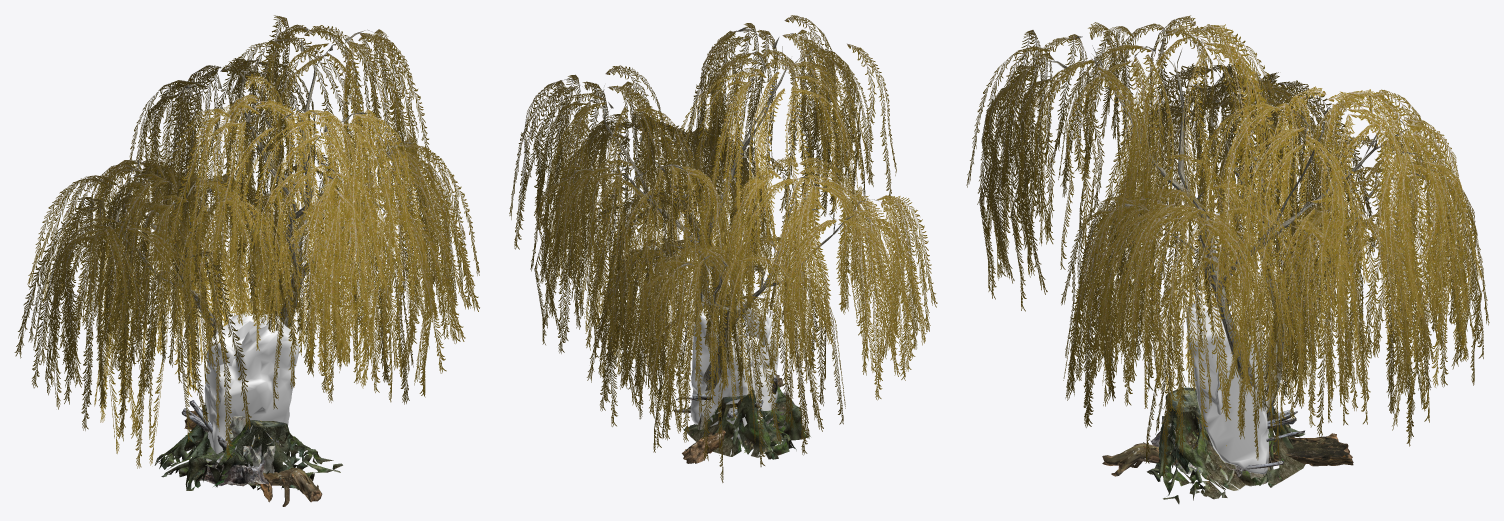
The model's file is wood.glb.
3 renders of one model, left to right at view 1: azimuth 30°, elevation 25°; view 2: azimuth 150°, elevation 25°; view 3: azimuth 270°, elevation 25°, orthographic. The views are drawn at different scales.
Visible parts, largest first — view 1: willow branch_1_willow branch_1Mat_0, rock_07, flat (×2), bark10_0_bark10_0Mat_0, rock_09_LOD0, dead_tree_trunk_02, parez_obora_parez_obora_0; view 2: willow branch_1_willow branch_1Mat_0, flat (×2), rock_07, bark10_0_bark10_0Mat_0, dead_tree_trunk_02, rock_09_LOD0; view 3: willow branch_1_willow branch_1Mat_0, rock_07, flat (×2), bark10_0_bark10_0Mat_0, dead_tree_trunk_02.
Boxes of the visible parts, x1,y1,x2,y2 form: willow branch_1_willow branch_1Mat_0: (14, 15, 479, 468); rock_07: (204, 313, 299, 462); flat (×2): (154, 400, 342, 491); bark10_0_bark10_0Mat_0: (95, 28, 410, 335); rock_09_LOD0: (206, 312, 266, 438); dead_tree_trunk_02: (184, 410, 322, 506); parez_obora_parez_obora_0: (206, 416, 283, 485); willow branch_1_willow branch_1Mat_0: (509, 15, 937, 482); flat (×2): (674, 377, 810, 459); rock_07: (690, 281, 778, 439); bark10_0_bark10_0Mat_0: (564, 28, 878, 430); dead_tree_trunk_02: (682, 375, 783, 463); rock_09_LOD0: (719, 293, 771, 411); willow branch_1_willow branch_1Mat_0: (966, 15, 1489, 477); rock_07: (1186, 303, 1269, 474); flat (×2): (1147, 386, 1305, 503); bark10_0_bark10_0Mat_0: (1034, 28, 1425, 486); dead_tree_trunk_02: (1102, 433, 1353, 476).
Bounding box in the file's own units: 8.59 × 8 × 8.39.
14 materials, 13 textured.
